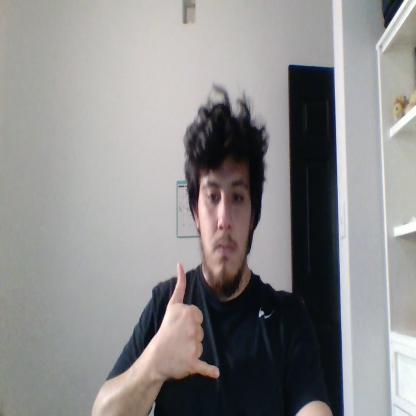Y: (157, 261, 220, 379)
